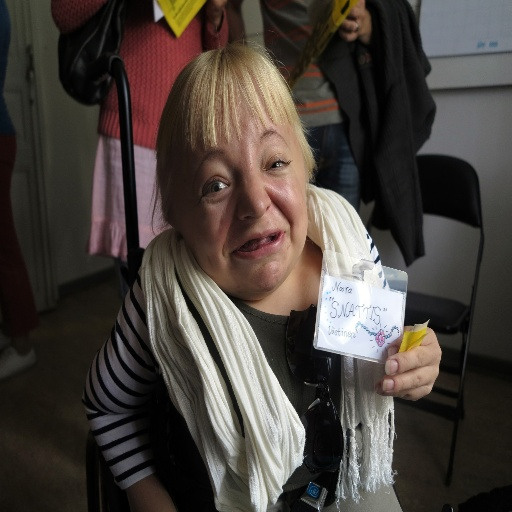hand: (371, 323, 442, 404), (335, 0, 373, 42), (131, 492, 179, 511), (206, 0, 227, 18)
